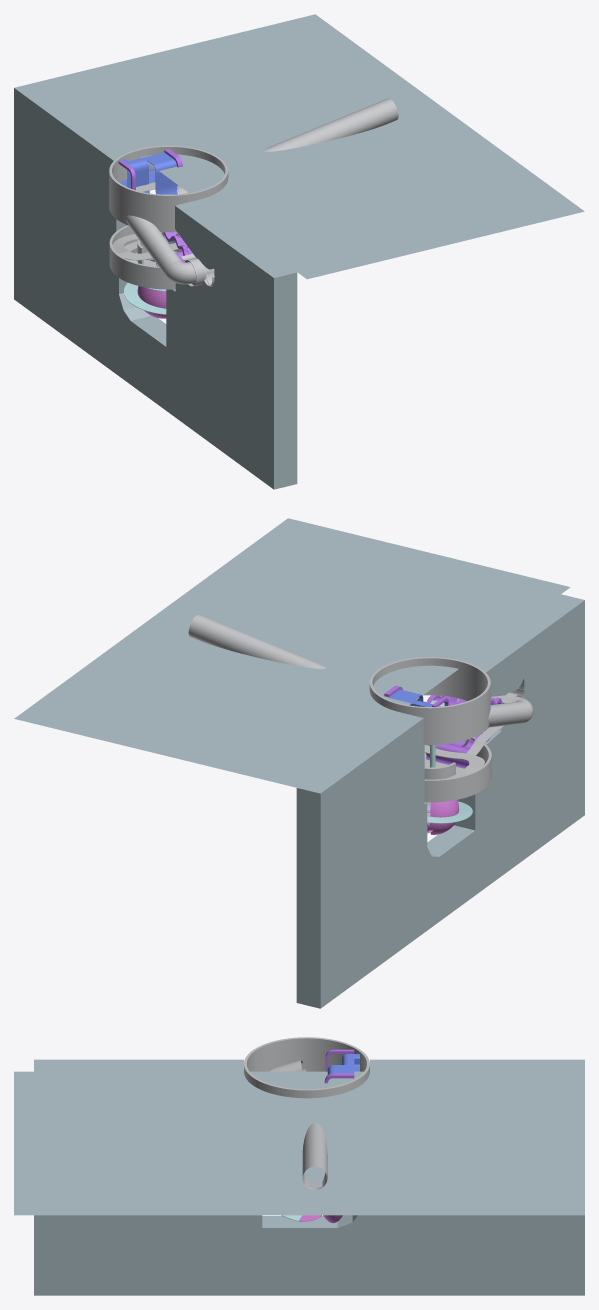
Rendered from exchange.glb.
3 renders of one model, top to bottom at view 1: azimuth 30°, elevation 25°; view 2: azimuth 150°, elevation 25°; view 3: azimuth 270°, elevation 25°, orthographic. The views are drawn at different scales.
Visible parts, largest first — view 1: GROUND_0, GROUND_151, DRUMSOLID_150, TUNNEL_149, DRUMSOLID_139, existing pipes_35, waterfall_44; view 2: GROUND_0, GROUND_151, DRUMSOLID_150, TUNNEL_149, DRUMSOLID_139, existing pipes_35; view 3: GROUND_0, GROUND_151, DRUMSOLID_150, TUNNEL_149.
Boxes of the visible parts, x1=… form: GROUND_0: x1=38, y1=14, x2=584, y2=279; GROUND_151: x1=14, y1=82, x2=297, y2=489; DRUMSOLID_150: x1=109, y1=145, x2=228, y2=232; TUNNEL_149: x1=263, y1=98, x2=398, y2=151; DRUMSOLID_139: x1=109, y1=225, x2=176, y2=289; existing pipes_35: x1=125, y1=215, x2=181, y2=275; waterfall_44: x1=143, y1=152, x2=176, y2=189; GROUND_0: x1=14, y1=518, x2=570, y2=787; GROUND_151: x1=296, y1=594, x2=584, y2=1008; DRUMSOLID_150: x1=369, y1=657, x2=490, y2=744; TUNNEL_149: x1=188, y1=614, x2=325, y2=668; DRUMSOLID_139: x1=424, y1=737, x2=491, y2=802; existing pipes_35: x1=488, y1=701, x2=530, y2=727; GROUND_0: x1=14, y1=1071, x2=584, y2=1215; GROUND_151: x1=34, y1=1059, x2=584, y2=1295; DRUMSOLID_150: x1=244, y1=1037, x2=369, y2=1098; TUNNEL_149: x1=302, y1=1123, x2=327, y2=1189.
Size of the model in its own units: 42.87 by 28.9 by 60.68.
